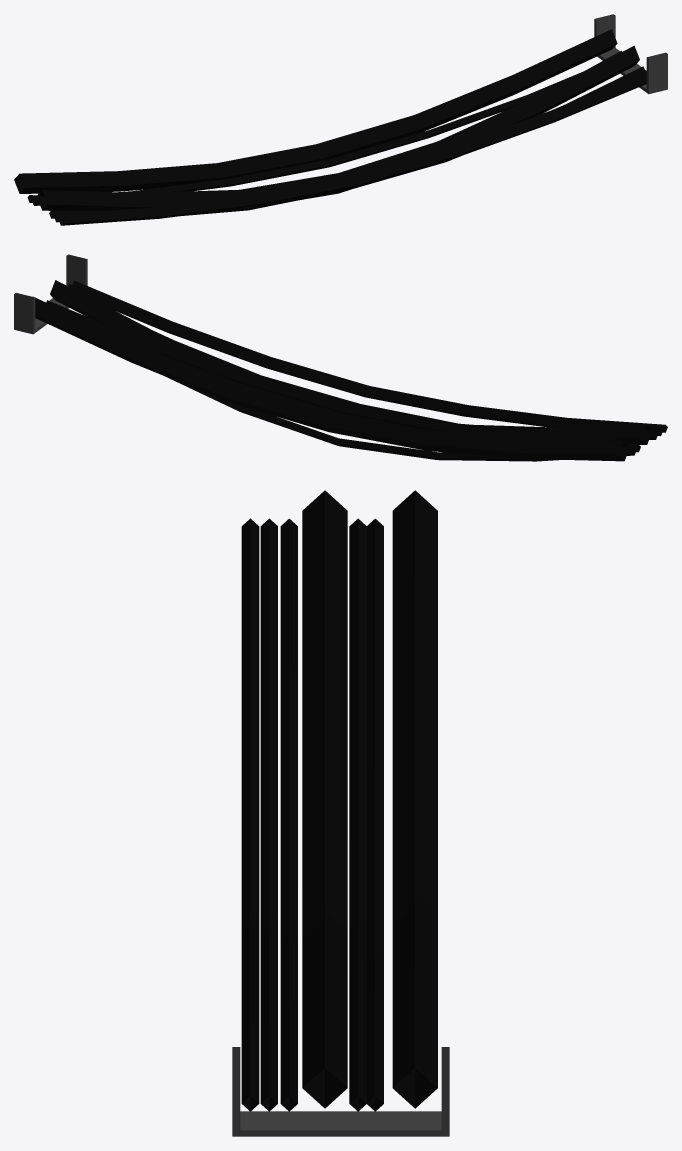
Rendered from wires_A.FBX.
3 renders of one model, top to bottom at view 1: azimuth 30°, elevation 25°; view 2: azimuth 150°, elevation 25°; view 3: azimuth 270°, elevation 25°, orthographic. The views are drawn at different scales.
Visible parts, largest first — view 1: wires_A; view 2: wires_A; view 3: wires_A.
Boxes of the visible parts, left/top/right/bottom form: wires_A: left=14, top=14, right=667, bottom=225; wires_A: left=14, top=254, right=667, bottom=461; wires_A: left=232, top=490, right=449, bottom=1136.
Bounding box in the file's own units: 171 × 24.64 × 26.71.
